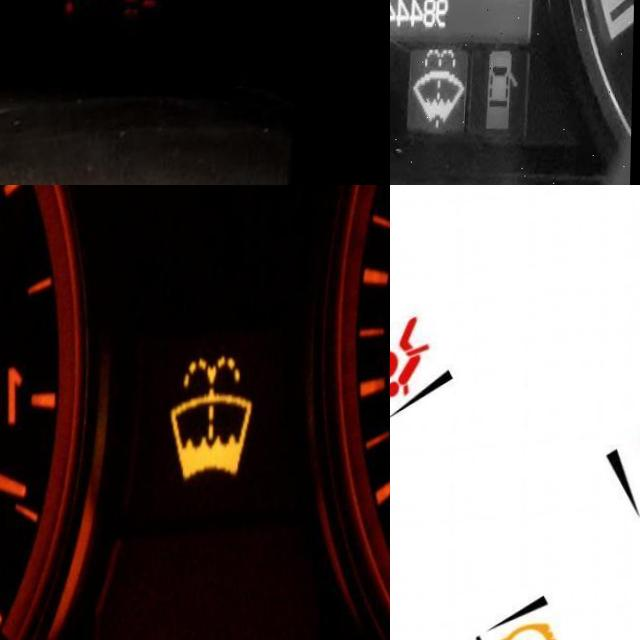Washer Fluid: (170, 359, 255, 488), (411, 54, 480, 137)
